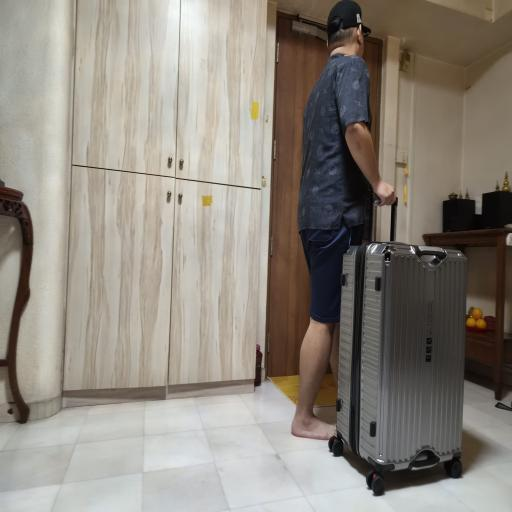person_right: (246, 6, 484, 499)
